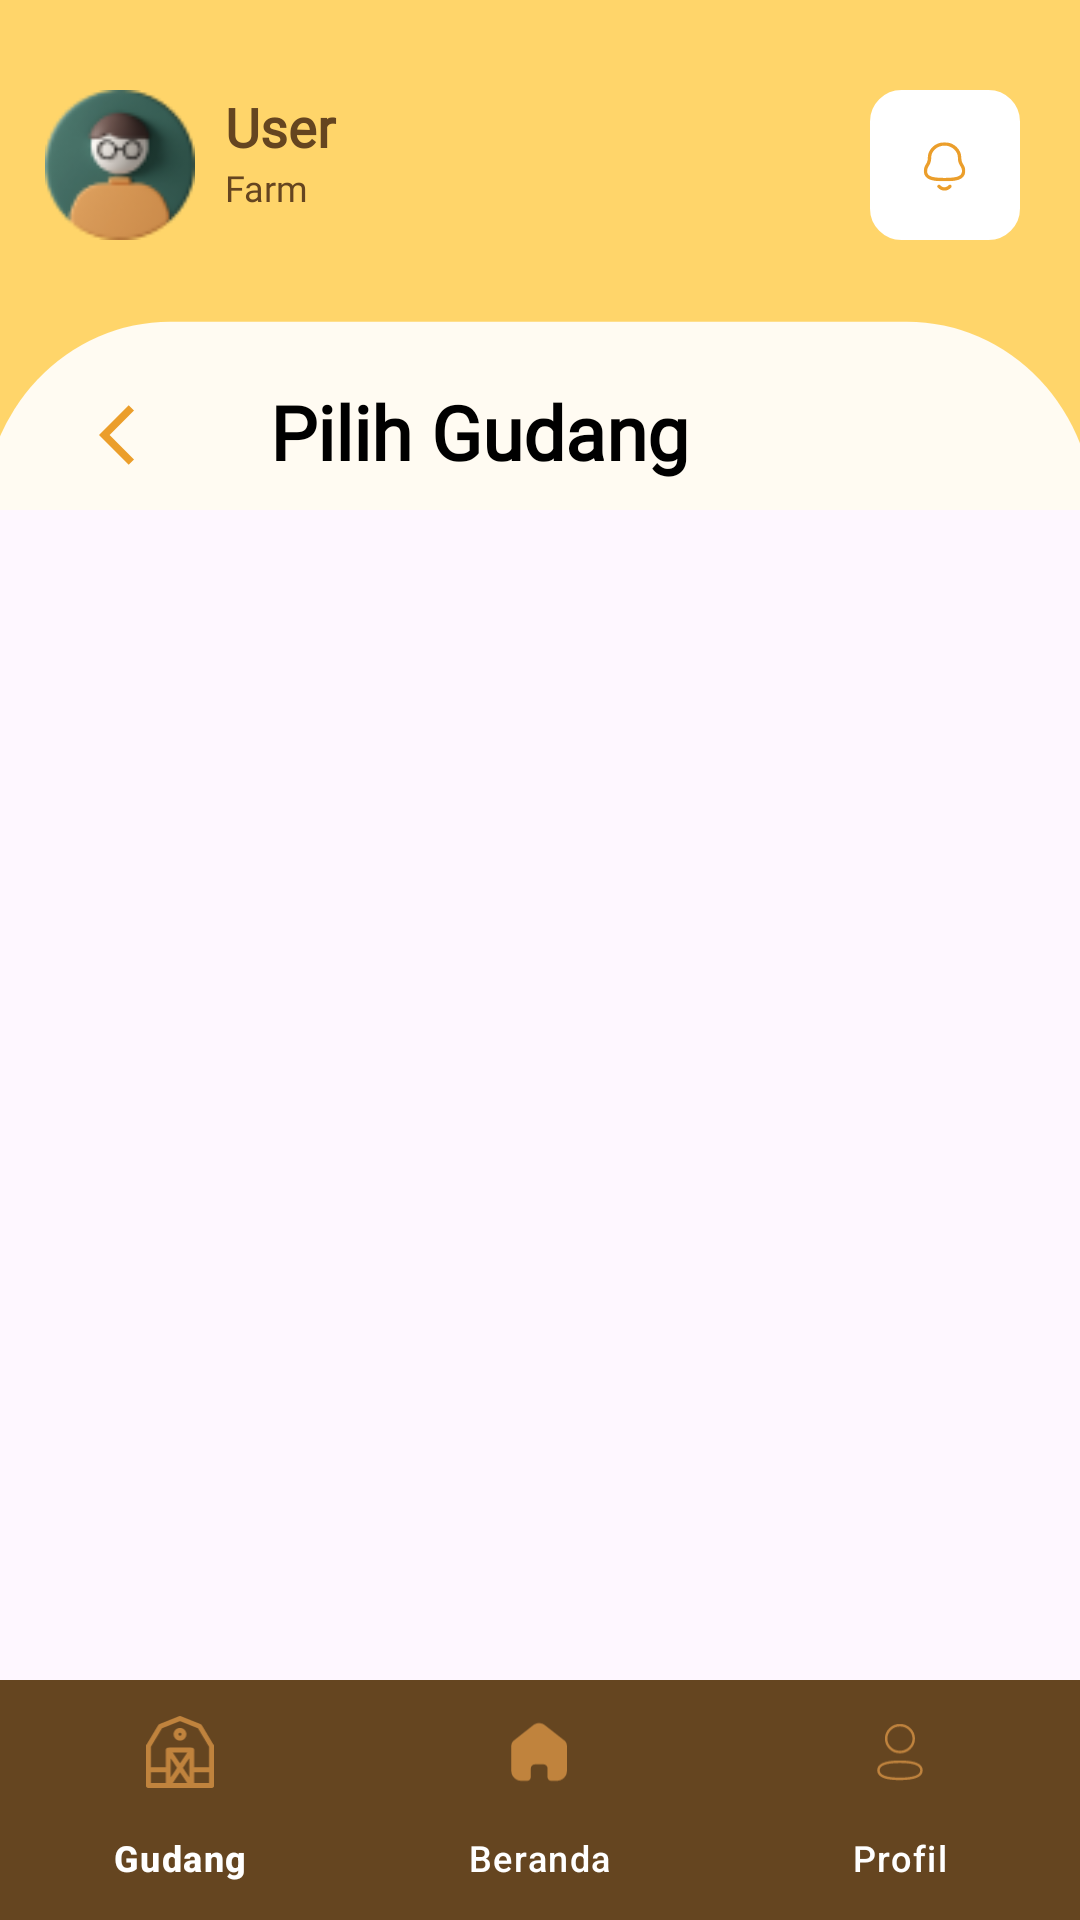

Icons on this 1080x1920 Android screen, each with the point to tap as point (x, y):
bell: point (945, 165)
profile pic: point (120, 165)
